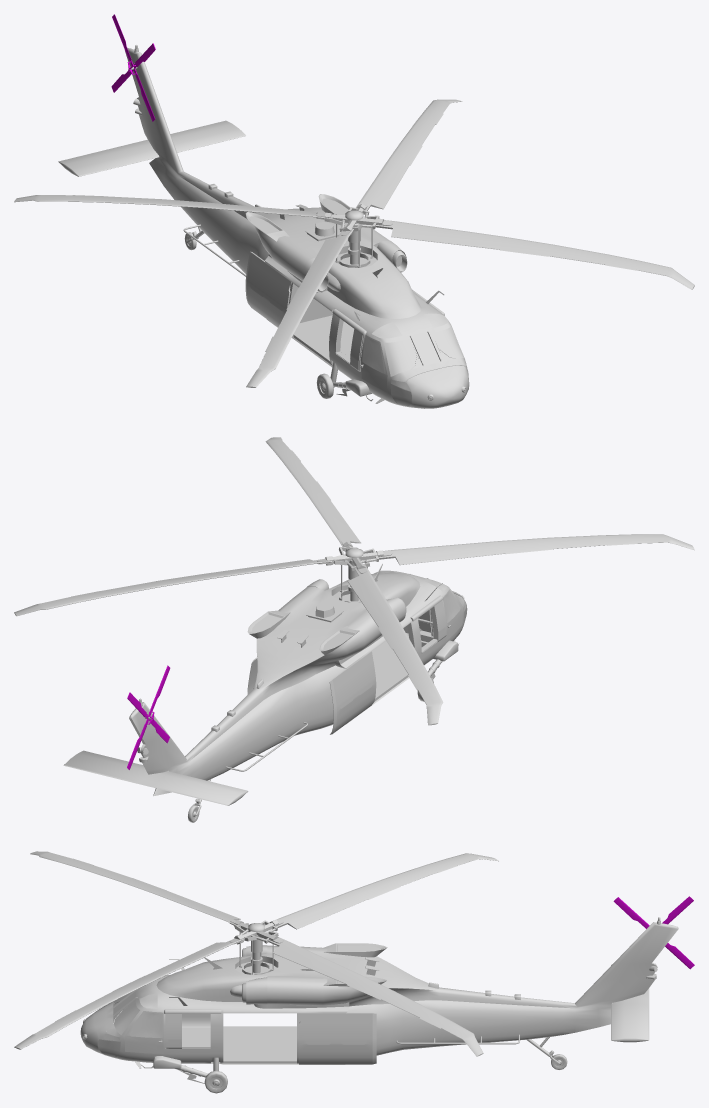
File: MilitaryHelicopterV3_fbx.fbx
The picture shows the model from 3 angles, top to bottom: view 1: azimuth 30°, elevation 25°; view 2: azimuth 150°, elevation 25°; view 3: azimuth 270°, elevation 25°; orthographic projection. The views are drawn at different scales.
Parts seen in each view (by area): view 1: HelicopterBody, WiekenEtc, Windows, AchterDeuren, Voordeuren, Tail Wieken, TopPart; view 2: HelicopterBody, WiekenEtc, AchterDeuren, Windows, Tail Wieken; view 3: HelicopterBody, WiekenEtc, Windows, AchterDeuren, Voordeuren, Tail Wieken, TopPart.
Boxes of the visible parts, x1,y1,x2,y2 form: HelicopterBody: (58, 45, 469, 408); WiekenEtc: (14, 99, 694, 387); Windows: (250, 261, 468, 405); AchterDeuren: (245, 251, 291, 327); Voordeuren: (350, 329, 387, 392); Tail Wieken: (111, 14, 155, 121); TopPart: (334, 210, 376, 267); HelicopterBody: (63, 563, 466, 822); WiekenEtc: (14, 437, 694, 725); AchterDeuren: (247, 651, 376, 734); Windows: (253, 570, 467, 708); Tail Wieken: (127, 665, 170, 769); HelicopterBody: (80, 917, 678, 1093); WiekenEtc: (14, 851, 498, 1056); Windows: (97, 991, 366, 1057); AchterDeuren: (299, 1012, 376, 1064); Voordeuren: (125, 1011, 181, 1053); Tail Wieken: (613, 896, 694, 969); TopPart: (236, 923, 276, 974).
Size of the model in its own units: 1586 by 616 by 2225.
